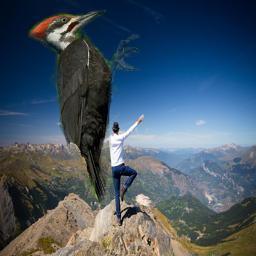Woodpecker: (28, 9, 140, 205)
